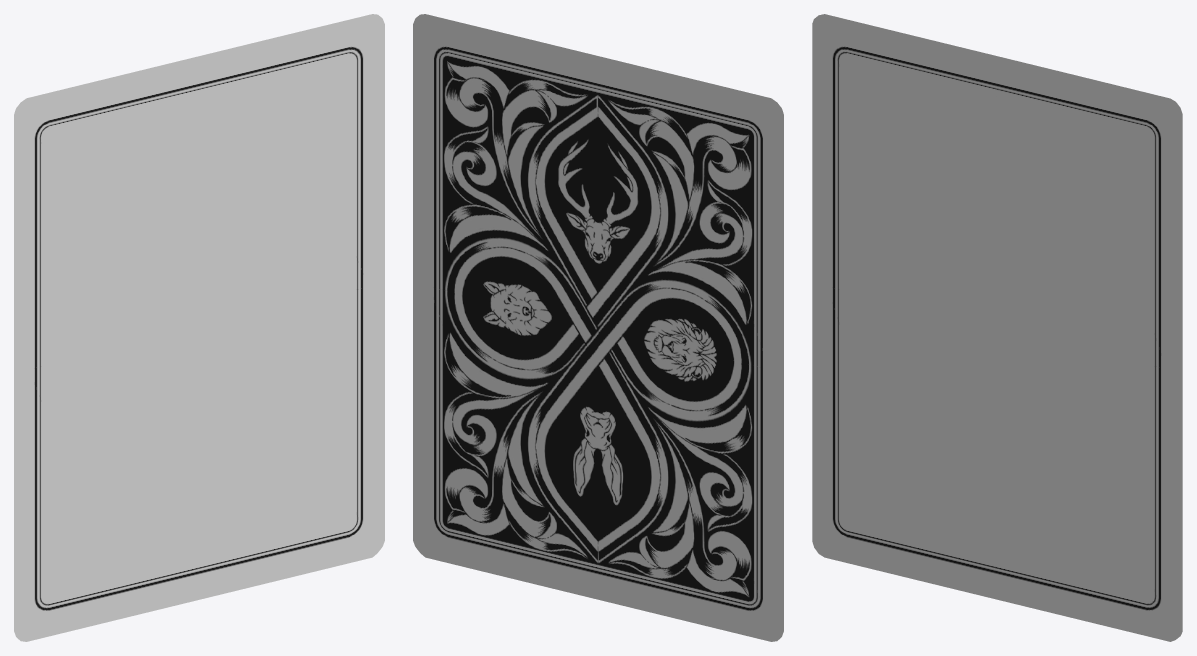
File: back.gltf
3 views of the same model, side by side, from view 1: azimuth 30°, elevation 25°; view 2: azimuth 150°, elevation 25°; view 3: azimuth 330°, elevation 25° (orthographic).
Parts seen in each view (by area): view 1: Node; view 2: Node; view 3: Node.
Boxes of the visible parts, x1=… form: Node: x1=14, y1=14, x2=384, y2=641; Node: x1=413, y1=14, x2=783, y2=641; Node: x1=812, y1=14, x2=1182, y2=641.
Bounding box in the file's own units: 1.5 × 2.1 × 7.08e-05.
1 material, 1 textured.
